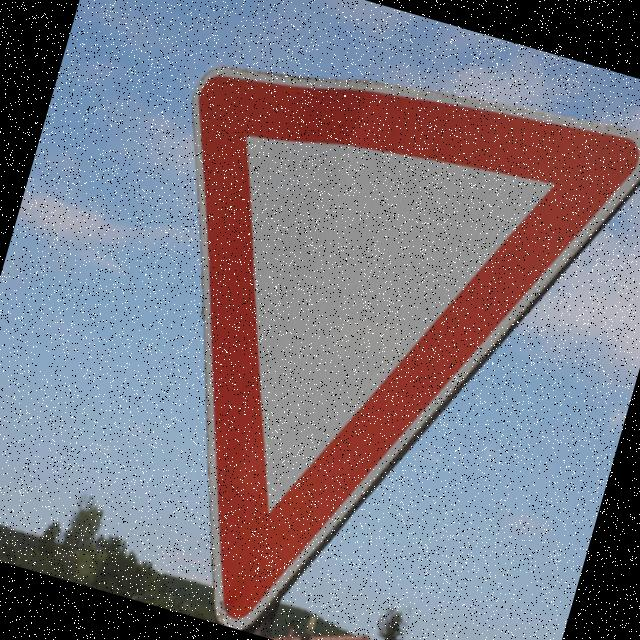give_way: (44, 2, 640, 640)
